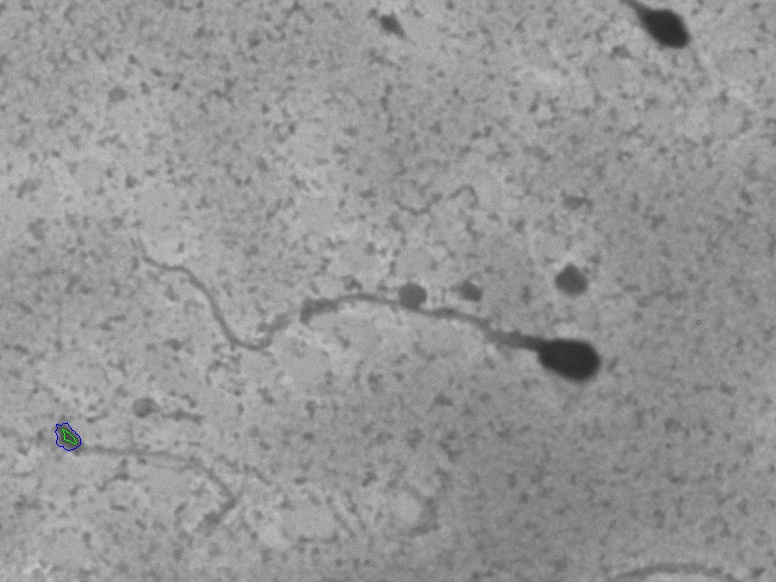Abnormal: (124, 227, 640, 429)
